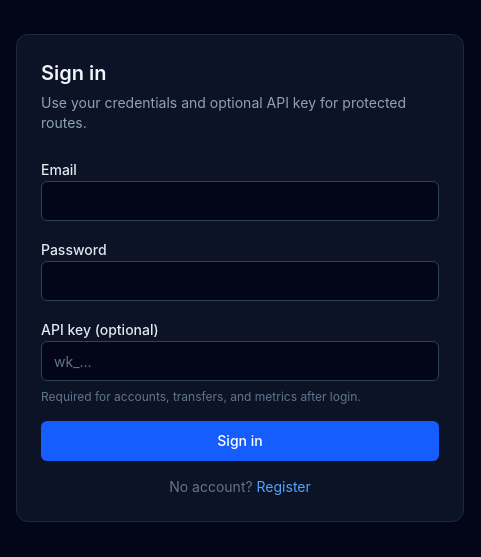
Test case: LoginPage › shows fallback error when response has no error field
The width and height of the screenshot is (481, 557).
Type "a@b.com" into the field labelled "Email". click: point(240, 201)
box: [41,181,439,221]
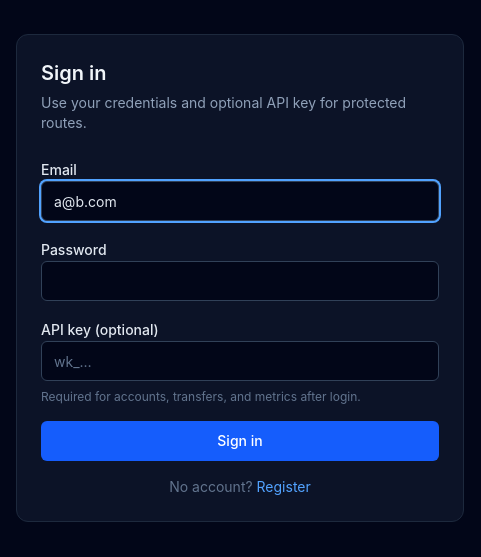
Type "pass" into the password field labelled "Password". click: point(240, 281)
box: [41,261,439,301]
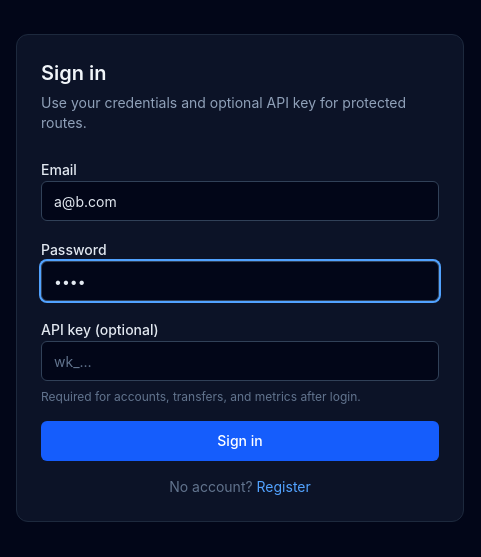
Click the button "Sign in". click: point(240, 441)
box: [41,421,439,461]
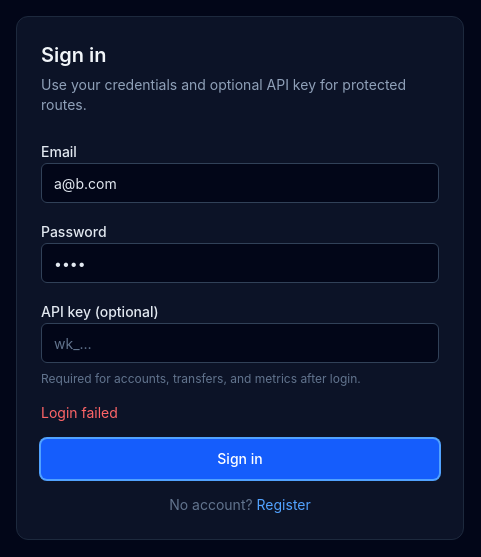
Now the text "Login failed" is shown, box [41,404,118,421]
